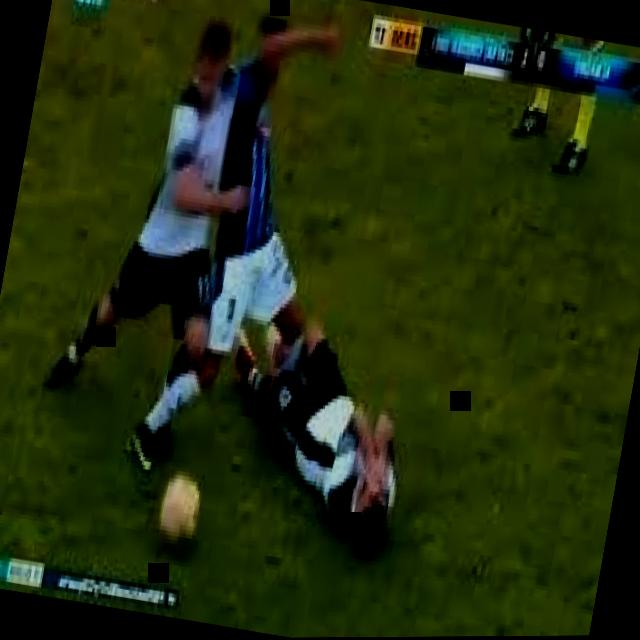Fall-Detected: (202, 275, 446, 551)
